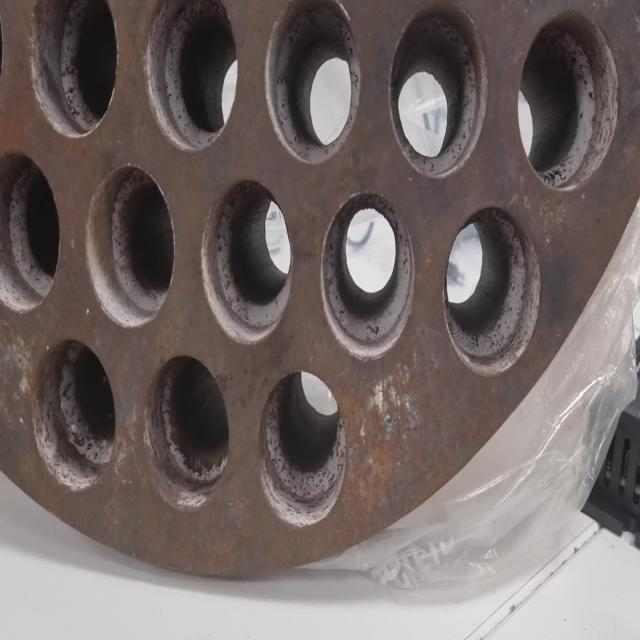Hole: (516, 9, 620, 191), (389, 1, 489, 180), (442, 205, 542, 376), (321, 190, 415, 361), (264, 1, 362, 164), (201, 176, 293, 345), (84, 162, 175, 329), (258, 368, 348, 530), (144, 0, 238, 153), (143, 354, 229, 511), (32, 337, 116, 492), (28, 0, 117, 138), (1, 152, 60, 313)
